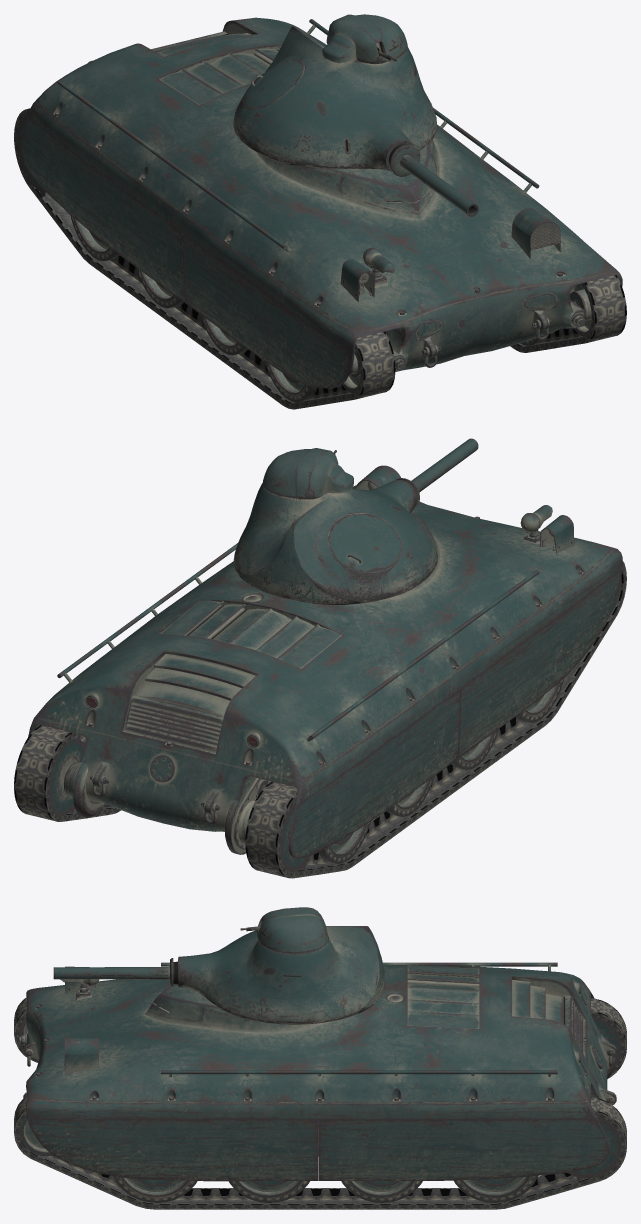
Rendered from amx40.glb.
3 views of the same model, one above another, from view 1: azimuth 30°, elevation 25°; view 2: azimuth 150°, elevation 25°; view 3: azimuth 270°, elevation 25° (orthographic). The views are drawn at different scales.
Visible parts, largest first — view 1: french\F14_AMX40\normal\l\Hull.pri~4~5, french\F14_AMX40\normal\l\Turret_02.pri~4~6, french\F14_AMX40\normal\l\Chassis.pri~4~4, french\F14_AMX40\normal\l\Chassis.pri~4~1, french\F14_AMX40\normal\l\Chassis.pri~4~3, french\F14_AMX40\normal\l\Gun_05.pri~4~7, french\F14_AMX40\normal\l\Chassis.pri~4~2; view 2: french\F14_AMX40\normal\l\Hull.pri~4~5, french\F14_AMX40\normal\l\Turret_02.pri~4~6, french\F14_AMX40\normal\l\Chassis.pri~4~4, french\F14_AMX40\normal\l\Chassis.pri~4~1, french\F14_AMX40\normal\l\Chassis.pri~4~3, french\F14_AMX40\normal\l\Chassis.pri~4~2, french\F14_AMX40\normal\l\Gun_05.pri~4~7; view 3: french\F14_AMX40\normal\l\Hull.pri~4~5, french\F14_AMX40\normal\l\Turret_02.pri~4~6, french\F14_AMX40\normal\l\Chassis.pri~4~3, french\F14_AMX40\normal\l\Chassis.pri~4~2, french\F14_AMX40\normal\l\Gun_05.pri~4~7, french\F14_AMX40\normal\l\Chassis.pri~4~4, french\F14_AMX40\normal\l\Chassis.pri~4~1.
Boxes of the visible parts, x1=… form: french\F14_AMX40\normal\l\Hull.pri~4~5: x1=20, y1=17, x2=622, y2=388; french\F14_AMX40\normal\l\Turret_02.pri~4~6: x1=233, y1=14, x2=437, y2=171; french\F14_AMX40\normal\l\Chassis.pri~4~4: x1=14, y1=108, x2=395, y2=409; french\F14_AMX40\normal\l\Chassis.pri~4~1: x1=17, y1=115, x2=360, y2=402; french\F14_AMX40\normal\l\Chassis.pri~4~3: x1=510, y1=275, x2=626, y2=352; french\F14_AMX40\normal\l\Gun_05.pri~4~7: x1=389, y1=144, x2=478, y2=216; french\F14_AMX40\normal\l\Chassis.pri~4~2: x1=520, y1=283, x2=591, y2=345; french\F14_AMX40\normal\l\Hull.pri~4~5: x1=28, y1=465, x2=622, y2=858; french\F14_AMX40\normal\l\Turret_02.pri~4~6: x1=233, y1=448, x2=437, y2=604; french\F14_AMX40\normal\l\Chassis.pri~4~4: x1=245, y1=561, x2=626, y2=878; french\F14_AMX40\normal\l\Chassis.pri~4~1: x1=280, y1=578, x2=620, y2=871; french\F14_AMX40\normal\l\Chassis.pri~4~3: x1=14, y1=725, x2=121, y2=821; french\F14_AMX40\normal\l\Chassis.pri~4~2: x1=49, y1=734, x2=111, y2=815; french\F14_AMX40\normal\l\Gun_05.pri~4~7: x1=396, y1=438, x2=478, y2=508; french\F14_AMX40\normal\l\Hull.pri~4~5: x1=19, y1=962, x2=616, y2=1181; french\F14_AMX40\normal\l\Turret_02.pri~4~6: x1=178, y1=907, x2=385, y2=1024; french\F14_AMX40\normal\l\Chassis.pri~4~3: x1=14, y1=1096, x2=626, y2=1209; french\F14_AMX40\normal\l\Chassis.pri~4~2: x1=19, y1=1116, x2=621, y2=1202; french\F14_AMX40\normal\l\Gun_05.pri~4~7: x1=53, y1=958, x2=178, y2=988; french\F14_AMX40\normal\l\Chassis.pri~4~4: x1=14, y1=997, x2=626, y2=1078; french\F14_AMX40\normal\l\Chassis.pri~4~1: x1=19, y1=1017, x2=621, y2=1065.
Size of the model in its own units: 2.45 by 2.42 by 5.33.
Materials: 5 (5 with a texture image).
